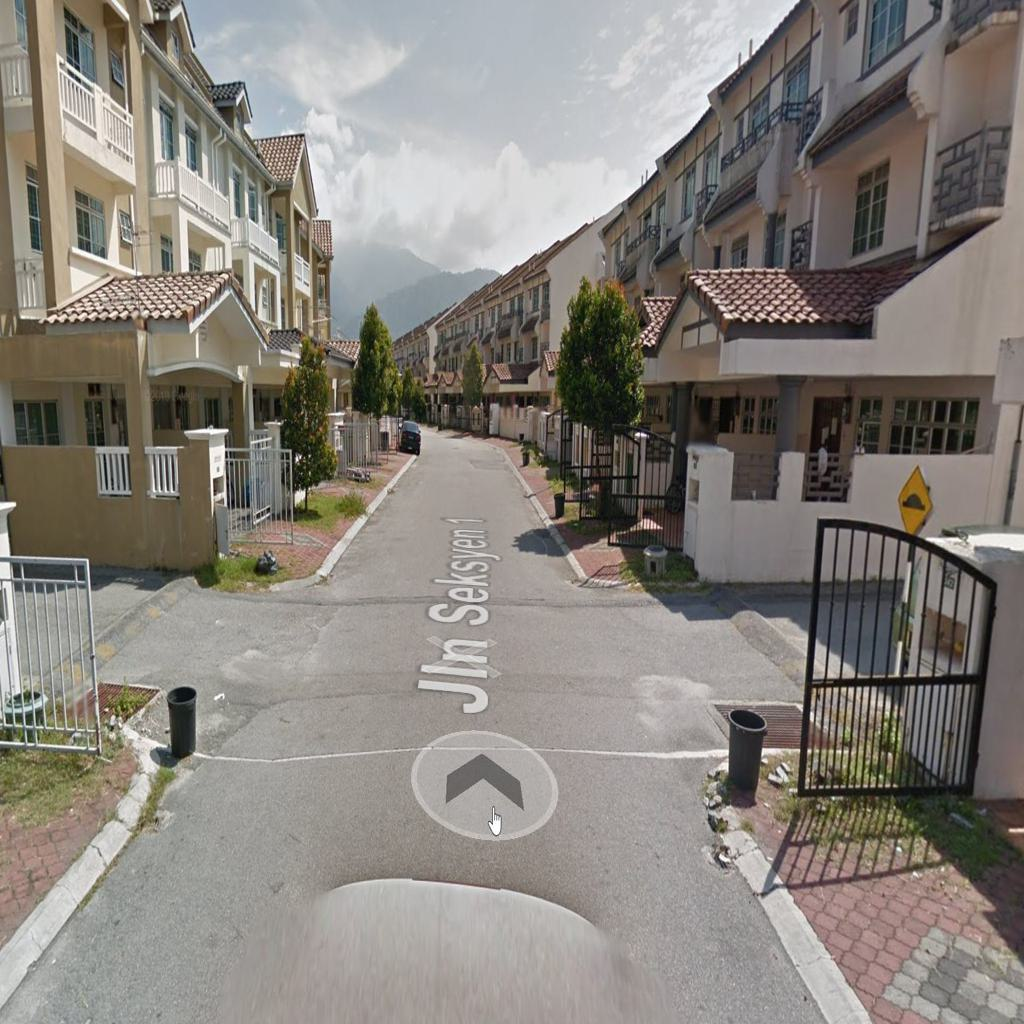Junction: (11, 516, 372, 811), (562, 535, 906, 814)
